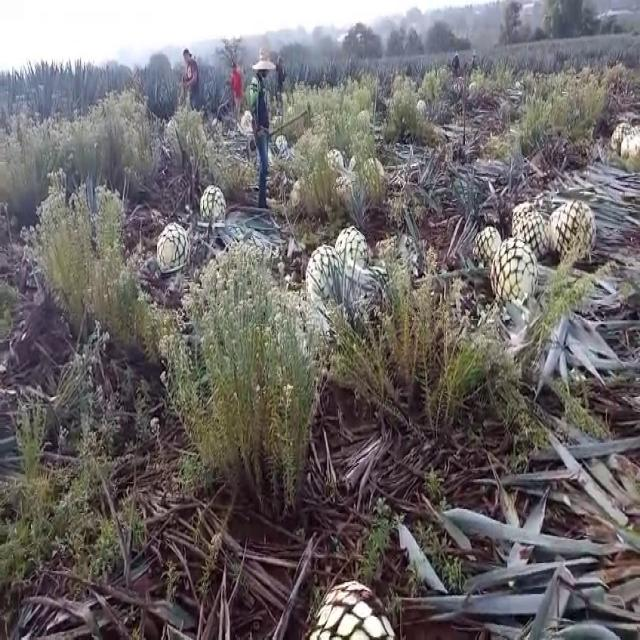agave: (310, 571, 392, 640), (546, 193, 597, 262), (488, 235, 539, 302), (304, 242, 346, 306), (335, 224, 369, 282), (154, 218, 188, 273), (196, 182, 228, 229), (470, 218, 500, 264), (511, 197, 539, 240), (521, 212, 548, 252), (610, 117, 628, 151), (622, 132, 634, 155)
